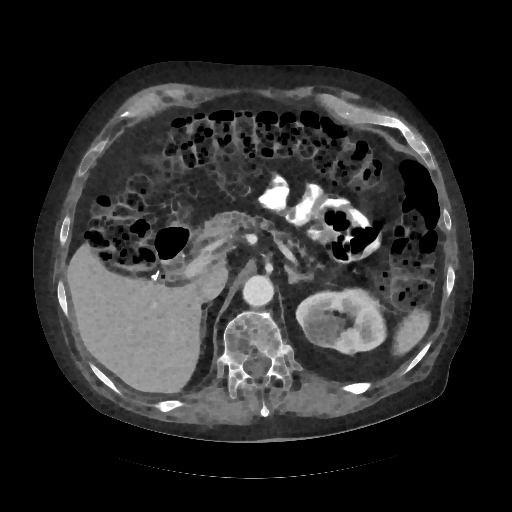Lesion: (301, 307, 346, 346)
